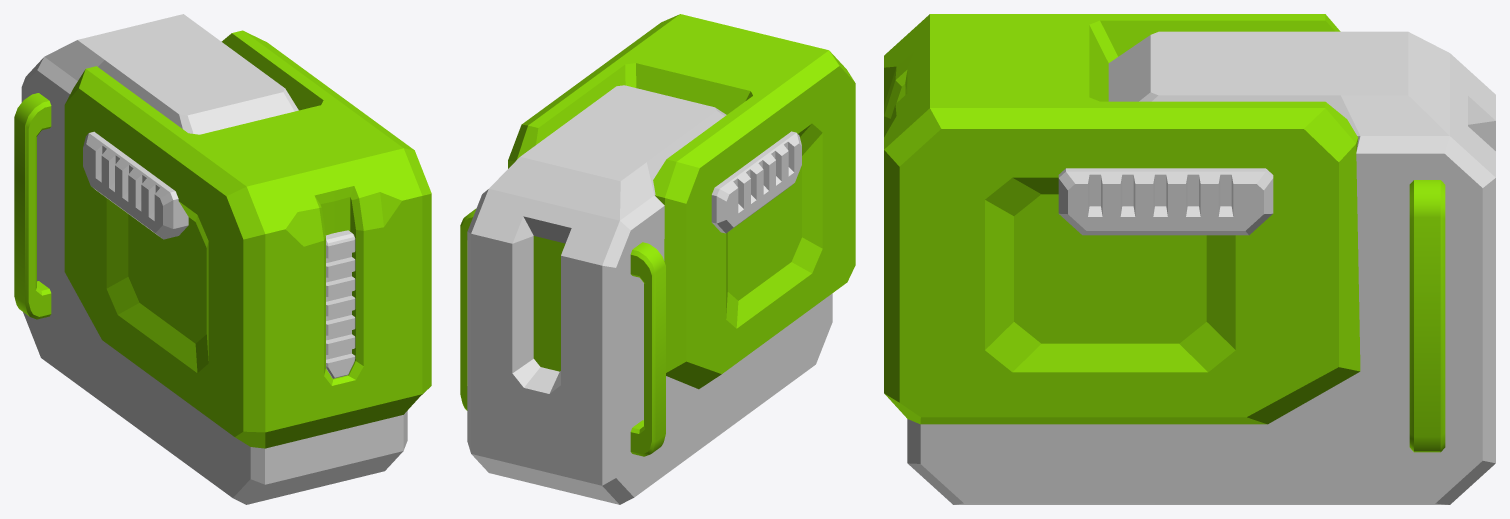
The model's file is AmmoBox С Mat.fbx.
3 views of the same model, side by side, from view 1: azimuth 30°, elevation 25°; view 2: azimuth 150°, elevation 25°; view 3: azimuth 270°, elevation 25° (orthographic). The views are drawn at different scales.
Visible parts, largest first — view 1: Ammo Box С Mat, Ammo Box С Mat.001; view 2: Ammo Box С Mat.001, Ammo Box С Mat; view 3: Ammo Box С Mat, Ammo Box С Mat.001.
Part boxes in pixels (<box>): Ammo Box С Mat: <box>64,30,431,448</box>; Ammo Box С Mat.001: <box>14,14,407,504</box>; Ammo Box С Mat.001: <box>460,85,832,504</box>; Ammo Box С Mat: <box>508,14,855,389</box>; Ammo Box С Mat: <box>884,14,1360,424</box>; Ammo Box С Mat.001: <box>907,31,1495,504</box>.
Bounding box in the file's own units: 0.2588 × 0.3817 × 0.526.
